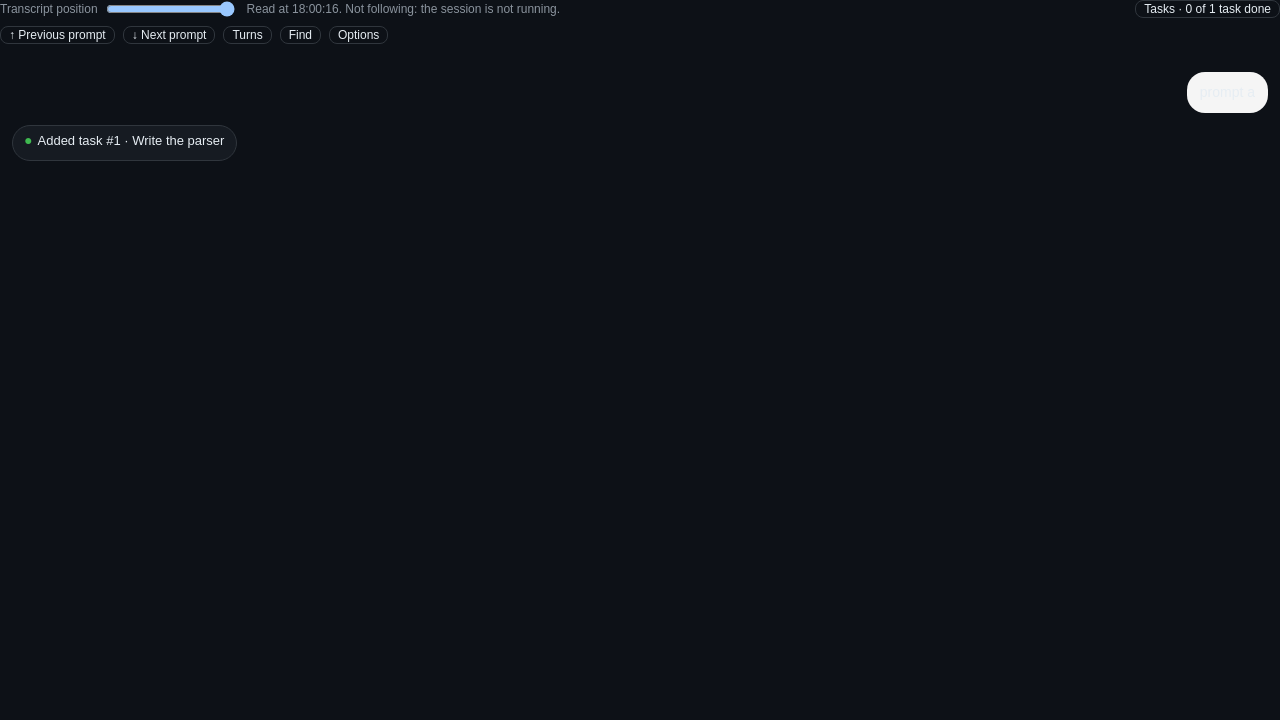
Test: the task list (#1504) › opens the session's checklist in a sheet from the header
Step 1. Click the button "Tasks · 0 of 1 task done" → (1208,9), box [1135,0,1279,18]
Wait 120 ms
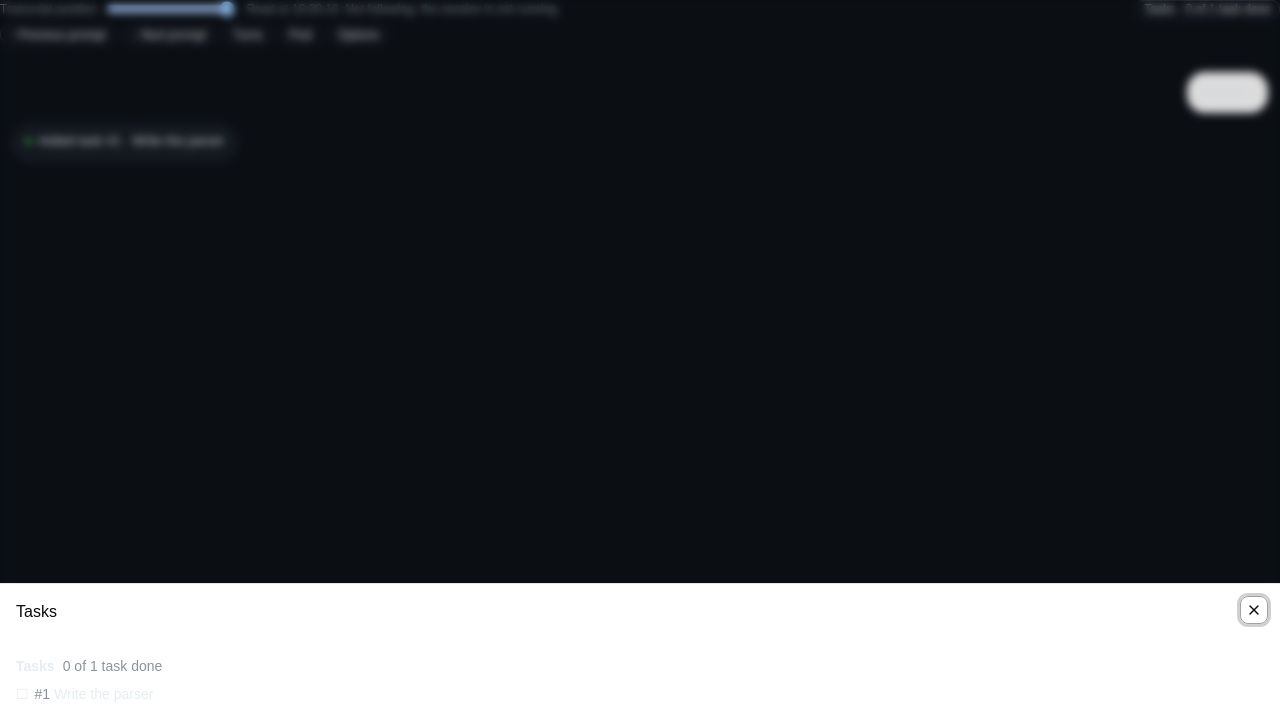
Now the text "Write the parser" is shown, box [54,686,153,702]
